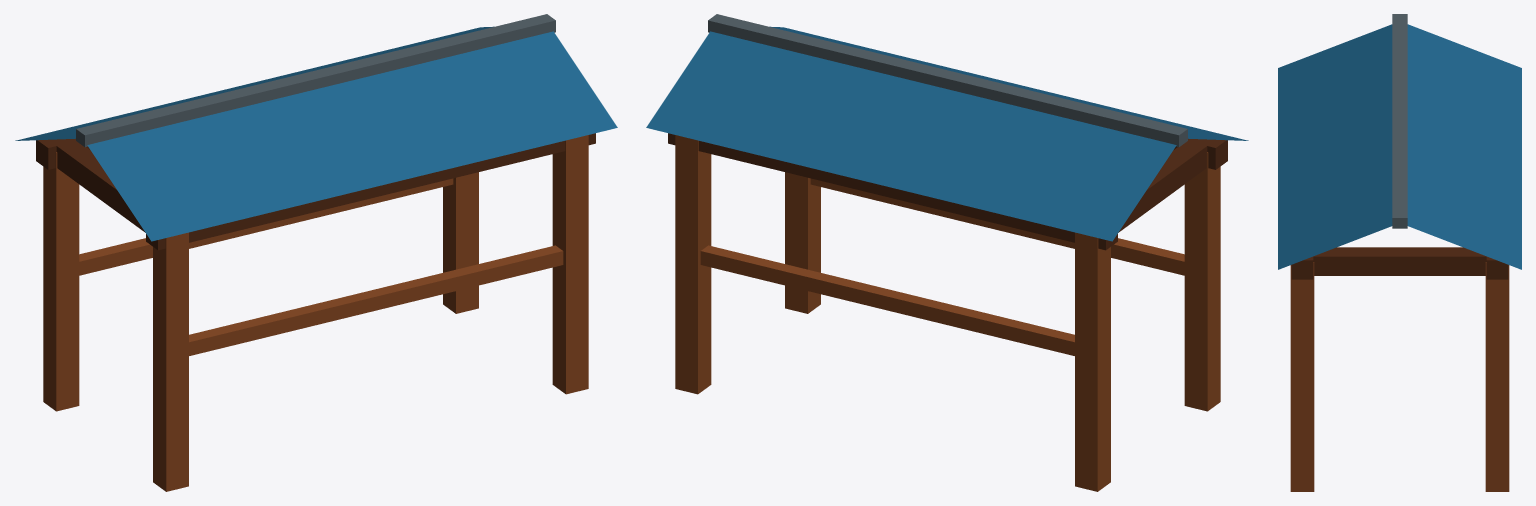
File: camp_canopy.obj
The picture shows the model from 3 angles, left to right: view 1: azimuth 30°, elevation 25°; view 2: azimuth 150°, elevation 25°; view 3: azimuth 270°, elevation 25°; orthographic projection. The views are drawn at different scales.
Visible parts, largest first — view 1: roof_back, ridge_cap, post_3, post_2, post_0, rail_back, beam_back, post_1, rail_front, beam_left, roof_front; view 2: roof_front, ridge_cap, post_1, post_0, post_2, rail_front, beam_front, post_3, rail_back, beam_left, roof_back; view 3: roof_front, roof_back, post_1, post_3, beam_right, ridge_cap, beam_front, beam_back.
Boxes of the visible parts, bbox=[...] form: roof_back: bbox=[87, 31, 617, 241]; ridge_cap: bbox=[76, 14, 555, 147]; post_3: bbox=[552, 135, 588, 394]; post_2: bbox=[153, 232, 188, 491]; post_0: bbox=[43, 152, 79, 411]; rail_back: bbox=[189, 245, 563, 355]; beam_back: bbox=[146, 133, 595, 250]; post_1: bbox=[443, 172, 478, 313]; rail_front: bbox=[79, 178, 453, 275]; beam_left: bbox=[54, 139, 145, 232]; roof_front: bbox=[15, 26, 494, 140]; roof_front: bbox=[646, 31, 1176, 241]; ridge_cap: bbox=[708, 14, 1187, 147]; post_1: bbox=[675, 135, 711, 394]; post_0: bbox=[1075, 232, 1110, 491]; post_2: bbox=[1184, 152, 1220, 411]; rail_front: bbox=[700, 245, 1074, 355]; beam_front: bbox=[668, 133, 1117, 250]; post_3: bbox=[785, 172, 820, 313]; rail_back: bbox=[810, 178, 1184, 275]; beam_left: bbox=[1118, 139, 1209, 232]; roof_back: bbox=[769, 26, 1248, 140]; roof_front: bbox=[1407, 24, 1521, 269]; roof_back: bbox=[1278, 24, 1392, 269]; post_1: bbox=[1485, 262, 1509, 491]; post_3: bbox=[1290, 262, 1314, 491]; beam_right: bbox=[1313, 247, 1486, 275]; ridge_cap: bbox=[1392, 14, 1407, 228]; beam_front: bbox=[1486, 256, 1508, 279]; beam_back: bbox=[1291, 256, 1313, 279].
Bounding box in the file's own units: 4.95 × 3.22 × 2.5.
